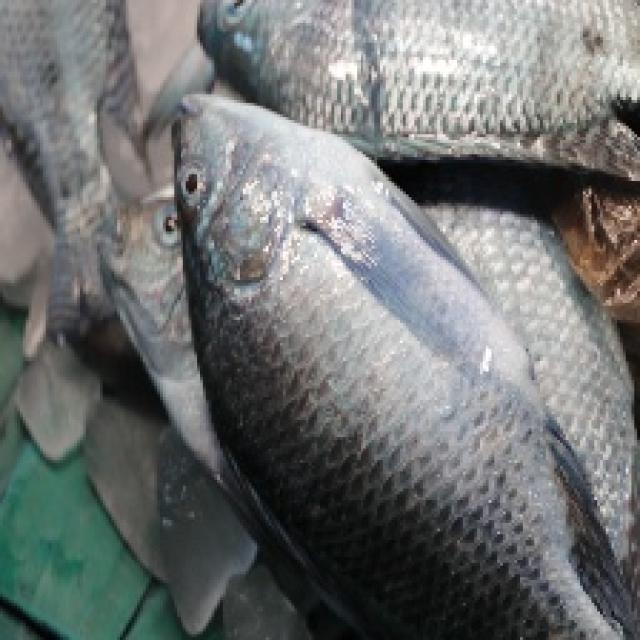Fresh: (128, 73, 526, 593)
